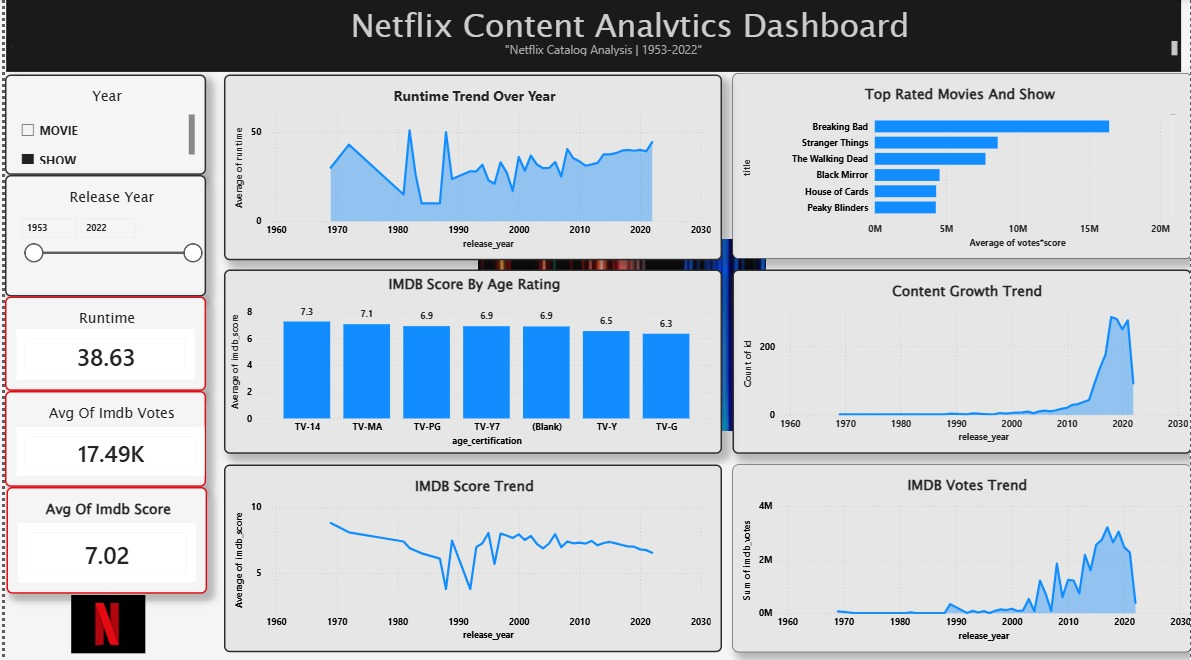

What the dashboard file says about the page in this screenshot:
{"tool":"powerbi","page":{"name":"Page 7","canvas":[1600,900],"ordinal":6},"visuals":[{"type":"barChart","title":"Top Rated Movies And Show","fields":{"Y":["Avg(Netflix TV Shows and Movies.votes*score)"],"Category":["Netflix TV Shows and Movies.title"]},"box":[981.7,101.2,619.4,251],"z":0},{"type":"lineChart","title":"Content Growth Trend","fields":{"Category":["Netflix TV Shows and Movies.release_year"],"Y":["CountNonNull(Netflix TV Shows and Movies.id)"]},"box":[981.7,366.4,619.4,249],"z":1000},{"type":"lineChart","title":"IMDB Score Trend","fields":{"Category":["Netflix TV Shows and Movies.release_year"],"Y":["Avg(Netflix TV Shows and Movies.imdb_score)"]},"box":[295.5,629.5,672,253],"z":2000},{"type":"lineChart","title":"IMDB Votes Trend","fields":{"Category":["Netflix TV Shows and Movies.release_year"],"Y":["Sum(Netflix TV Shows and Movies.imdb_votes)"]},"box":[981.7,629.5,619.4,253],"z":3000},{"type":"lineChart","title":"Runtime Trend Over Year","fields":{"Category":["Netflix TV Shows and Movies.release_year"],"Y":["Avg(Netflix TV Shows and Movies.runtime)"]},"box":[295.5,103.2,672,251],"z":4000},{"type":"clusteredColumnChart","title":"IMDB Score By Age Rating","fields":{"Category":["Netflix TV Shows and Movies.age_certification"],"Y":["Avg(Netflix TV Shows and Movies.imdb_score)"]},"box":[295.5,366.4,672,249],"z":5000},{"type":"slicer","title":"Year","fields":{"Values":["Netflix TV Shows and Movies.type"]},"box":[0,103.2,271.2,135.6],"z":6000},{"type":"slicer","title":"Release Year","fields":{"Values":["Netflix TV Shows and Movies.release_year"]},"box":[0,238.8,271.2,163.9],"z":7000},{"type":"cardVisual","title":"Runtime ","fields":{"Data":["Avg(Netflix TV Shows and Movies.runtime)"]},"box":[0,402.8,271.2,127.5],"z":8000},{"type":"cardVisual","title":"Avg Of Imdb Votes","fields":{"Data":["Avg(Netflix TV Shows and Movies.imdb_votes)"]},"box":[0,530.3,271.2,129.5],"z":9000},{"type":"cardVisual","title":"Avg Of Imdb Score","fields":{"Data":["Avg(Netflix TV Shows and Movies.imdb_score)"]},"box":[2.5,660.8,270.9,144.3],"z":10000},{"type":"image","box":[0,805.1,278.5,78.5],"z":11000},{"type":"textbox","box":[2,0,1584.8,99.2],"z":12000},{"type":"shape","box":[2,85,1599,18.2],"z":13000},{"type":"textbox","box":[2,52.6,1584.8,30.4],"z":14000}]}

Visuals, with their boxes in screenshot pixels (x1, y1, x2, y2), scaled from the page's 1600x900 canvas onto the 1191x660 screenshot:
"Top Rated Movies And Show" barChart: {"x1": 731, "y1": 74, "x2": 1190, "y2": 258}
"Content Growth Trend" lineChart: {"x1": 731, "y1": 269, "x2": 1190, "y2": 451}
"IMDB Score Trend" lineChart: {"x1": 220, "y1": 462, "x2": 720, "y2": 647}
"IMDB Votes Trend" lineChart: {"x1": 731, "y1": 462, "x2": 1190, "y2": 647}
"Runtime Trend Over Year" lineChart: {"x1": 220, "y1": 76, "x2": 720, "y2": 260}
"IMDB Score By Age Rating" clusteredColumnChart: {"x1": 220, "y1": 269, "x2": 720, "y2": 451}
"Year" slicer: {"x1": 0, "y1": 76, "x2": 202, "y2": 175}
"Release Year" slicer: {"x1": 0, "y1": 175, "x2": 202, "y2": 295}
"Runtime " cardVisual: {"x1": 0, "y1": 295, "x2": 202, "y2": 389}
"Avg Of Imdb Votes" cardVisual: {"x1": 0, "y1": 389, "x2": 202, "y2": 484}
"Avg Of Imdb Score" cardVisual: {"x1": 2, "y1": 485, "x2": 204, "y2": 590}
image: {"x1": 0, "y1": 590, "x2": 207, "y2": 648}
textbox: {"x1": 1, "y1": 0, "x2": 1181, "y2": 73}
shape: {"x1": 1, "y1": 62, "x2": 1190, "y2": 76}
textbox: {"x1": 1, "y1": 39, "x2": 1181, "y2": 61}
